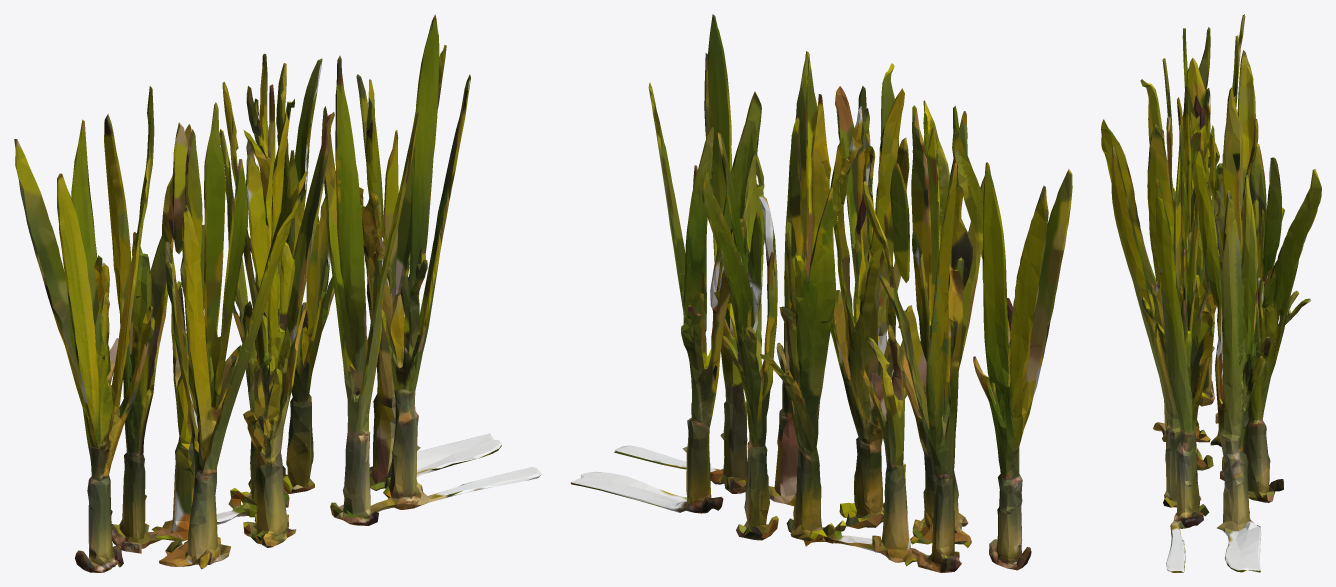
The model's file is traveler_env_coast_cakon_paddy_stalks_00001_.glb.
3 renders of one model, left to right at view 1: azimuth 30°, elevation 25°; view 2: azimuth 150°, elevation 25°; view 3: azimuth 270°, elevation 25°, orthographic. The views are drawn at different scales.
Visible parts, largest first — view 1: temp_mesh.ply; view 2: temp_mesh.ply; view 3: temp_mesh.ply.
Boxes of the visible parts, left/top/right/bottom form: temp_mesh.ply: left=14, top=14, right=541, bottom=572; temp_mesh.ply: left=570, top=14, right=1072, bottom=572; temp_mesh.ply: left=1101, top=14, right=1321, bottom=572.
Bounding box in the file's own units: 1.82 × 1.75 × 0.8424.
1 material, 1 textured.
